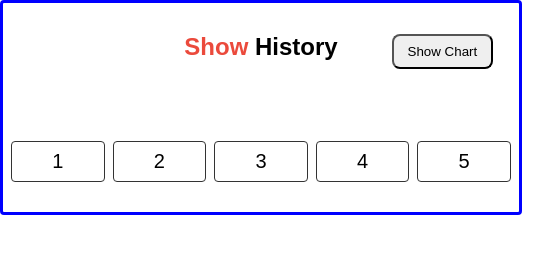
it: <Box /> › 버튼 클릭 시 숫자가 화면에 표시된다
Click the button "1": {"x": 58, "y": 162} [11,141,105,182]
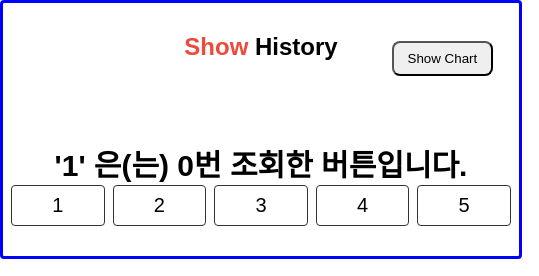
Check: the heading "'1' 은(는) 0번 조회한 버튼입니다." is shown, box [54,149,467,182]
